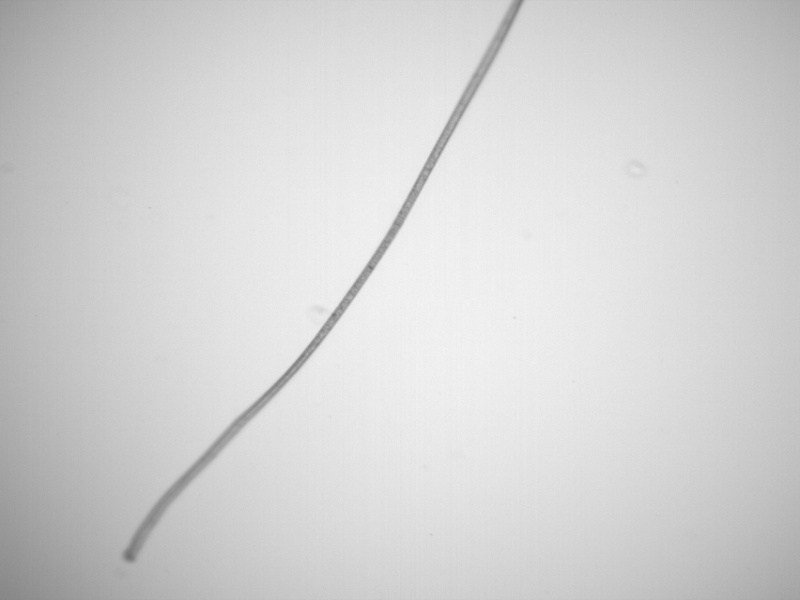fiber: (119, 1, 528, 563)
